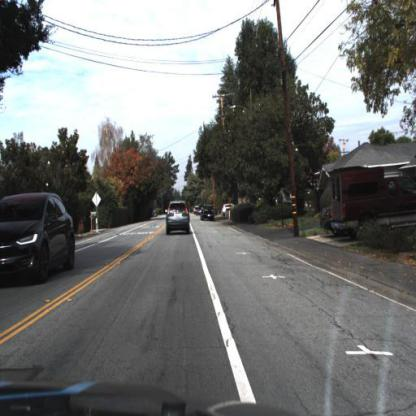car: (1, 194, 77, 288), (328, 166, 413, 243), (163, 197, 193, 238), (221, 200, 247, 216), (198, 204, 217, 225)
